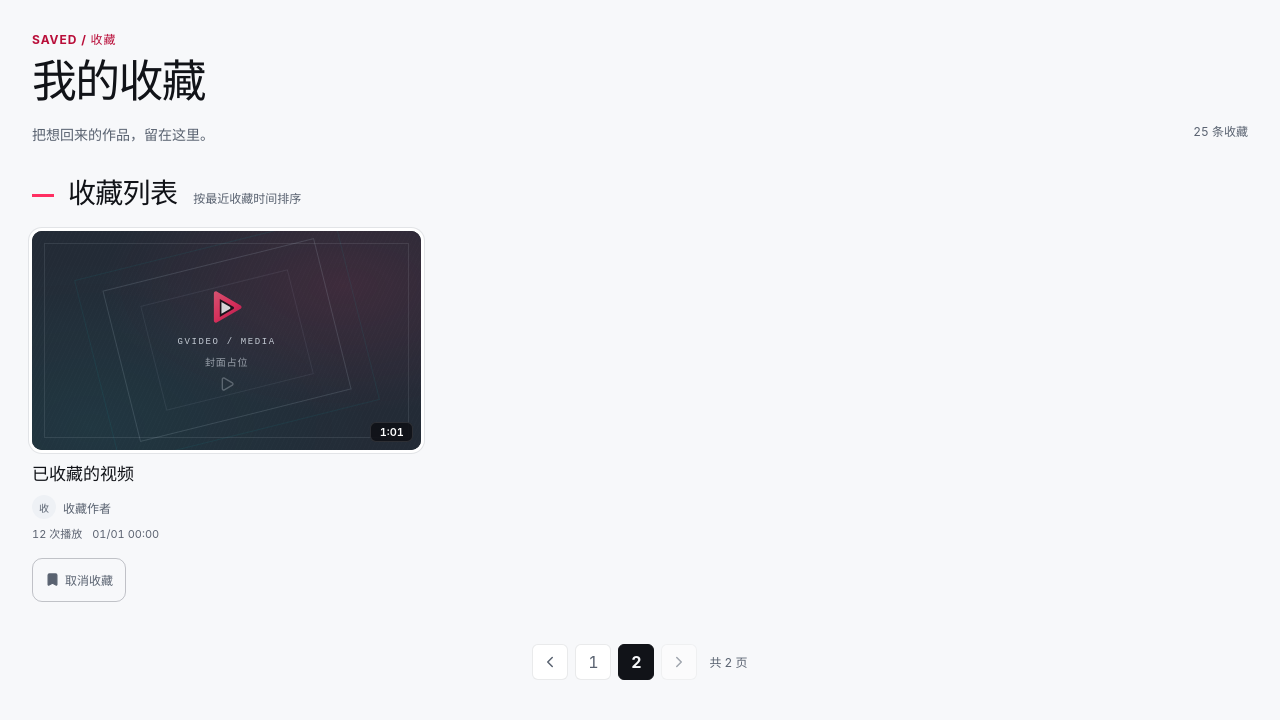
FavoritesPage › 末页最后一条取消后主动更新，会回到仍有内容的上一页
Click the button "取消收藏" at (79, 580), box [32,558,126,602]
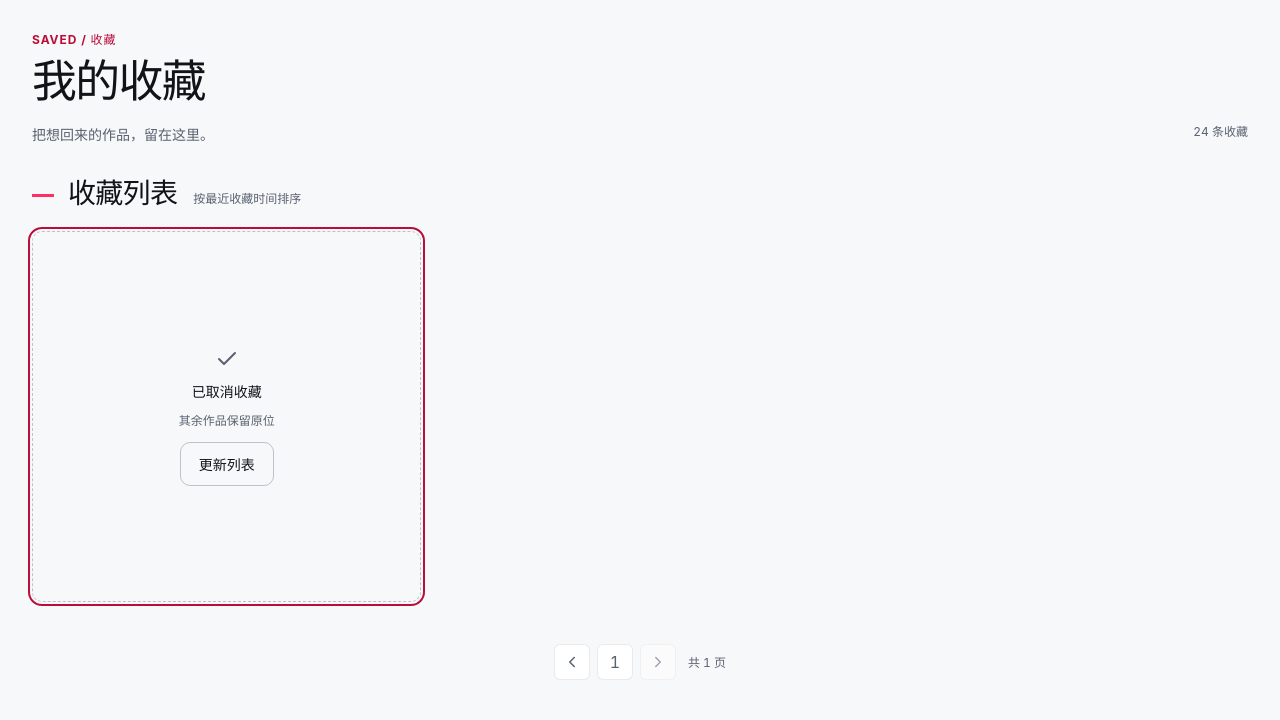
Expected: the text "已取消收藏" is shown, [192,381,262,401]
Click the button "更新列表" at (227, 464), box [180,442,274,486]
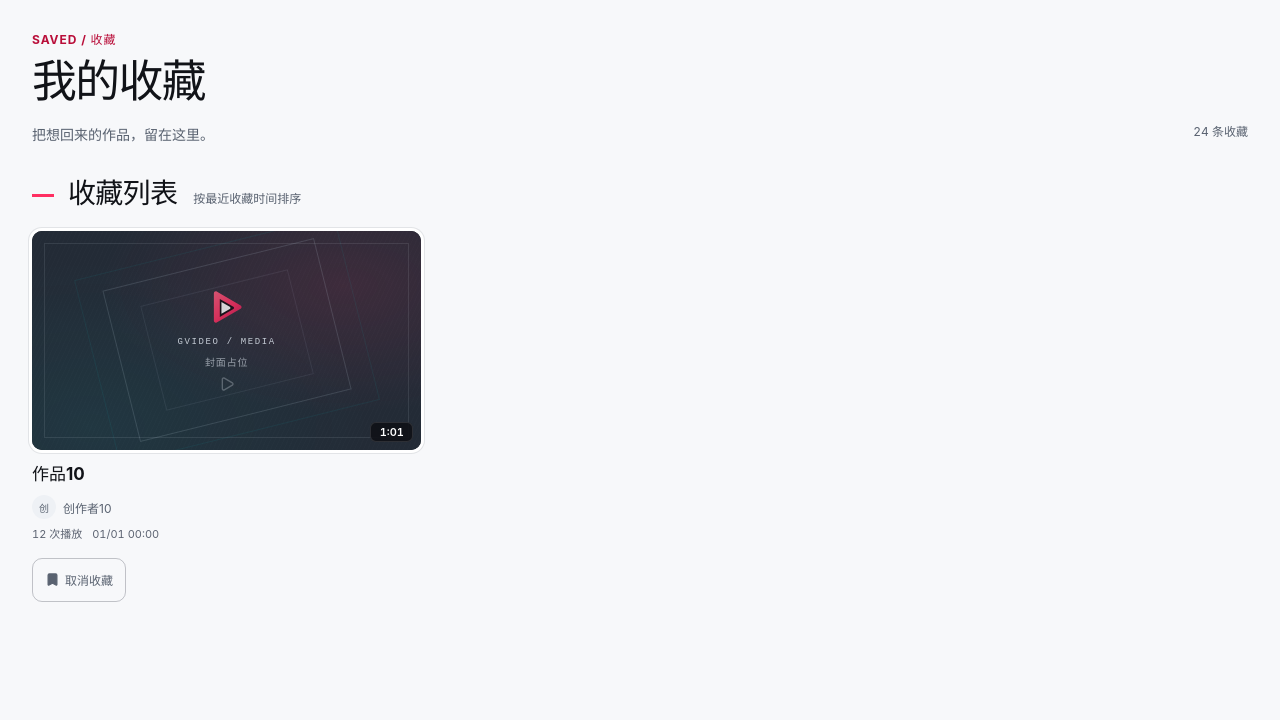
Expected: the text "24 条收藏" is shown, [1193,124,1248,138]
Expected: the link "作品10" is shown, [32,464,85,484]
